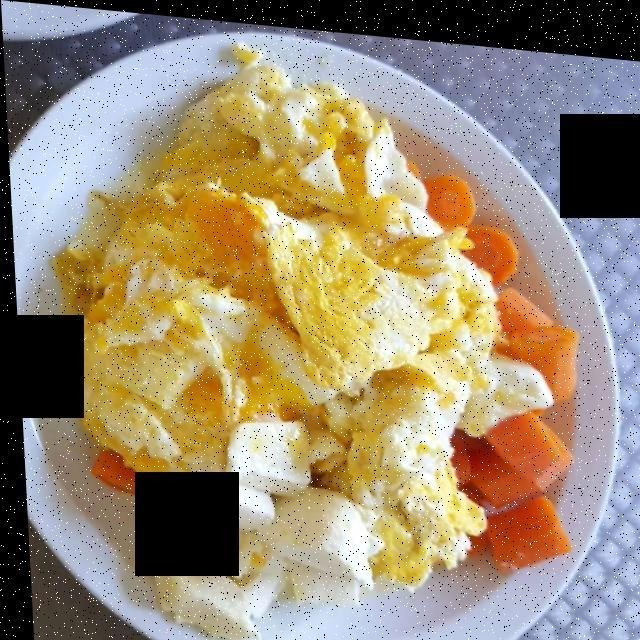carrots: (430, 168, 581, 554)
cheese: (147, 411, 377, 636)
eggs: (57, 58, 531, 567)
